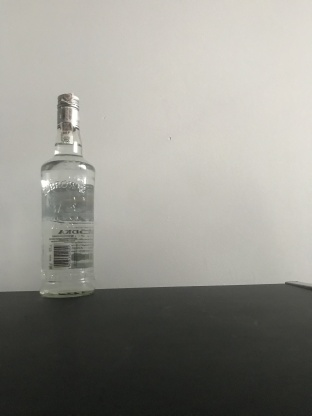nakretka: (55, 90, 81, 131)
